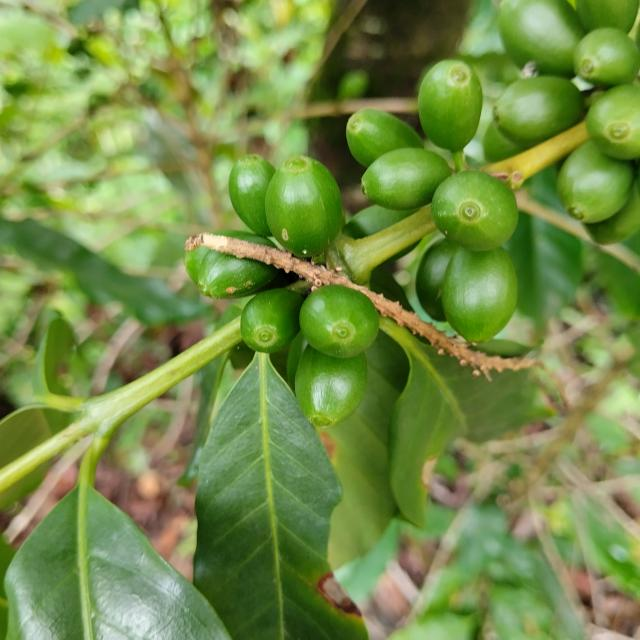green: (265, 155, 343, 258), (442, 247, 518, 343), (431, 170, 519, 251), (494, 75, 586, 147), (558, 139, 635, 223), (419, 59, 483, 155), (295, 345, 368, 428), (299, 285, 379, 358), (361, 147, 451, 210), (346, 108, 424, 167), (240, 288, 304, 353), (587, 84, 640, 160), (198, 250, 279, 299), (574, 26, 640, 86), (228, 154, 276, 236), (416, 239, 459, 321), (484, 120, 526, 162), (184, 246, 210, 284), (228, 233, 274, 246), (212, 230, 229, 235)
